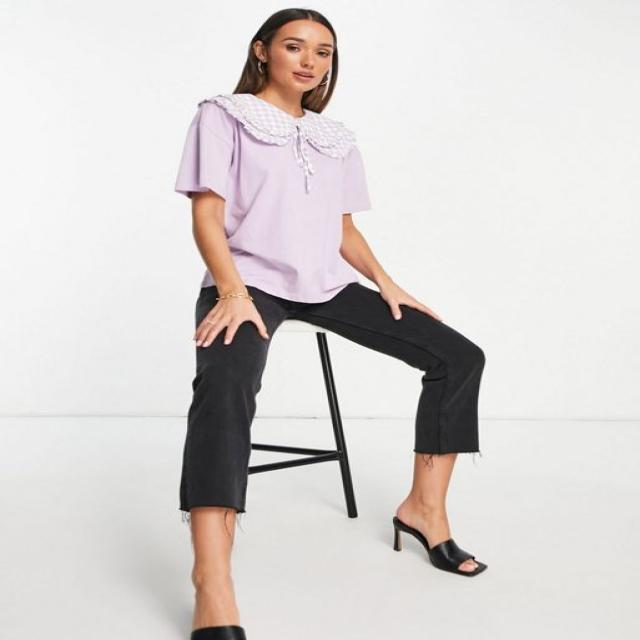tshirt: (172, 91, 374, 304)
